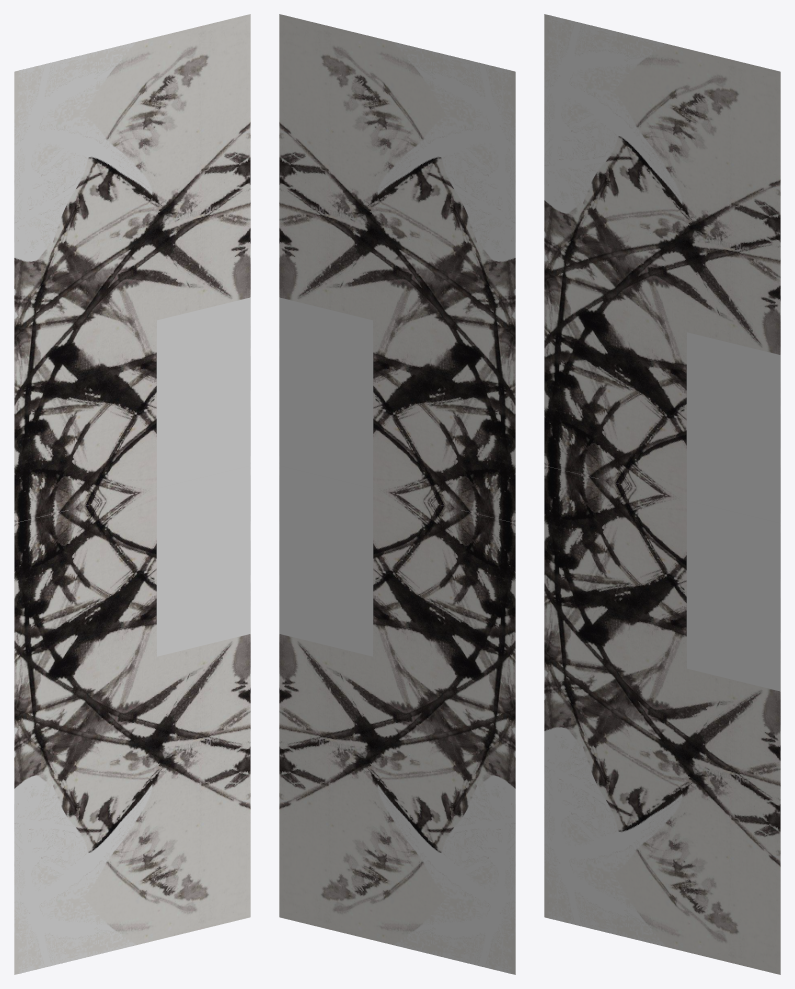
File: PPX_REED3.fbx
The picture shows the model from 3 angles, left to right: view 1: azimuth 30°, elevation 25°; view 2: azimuth 150°, elevation 25°; view 3: azimuth 330°, elevation 25°; orthographic projection.
Parts seen in each view (by area): view 1: 图层 11.png, 图层 11.png_2; view 2: 图层 11.png, 图层 11.png_2; view 3: 图层 11.png, 图层 11.png_2.
Part boxes in pixels (left/top/right/bottom): 图层 11.png: left=14, top=14, right=250, bottom=523; 图层 11.png_2: left=14, top=465, right=250, bottom=974; 图层 11.png: left=279, top=14, right=515, bottom=523; 图层 11.png_2: left=279, top=465, right=515, bottom=974; 图层 11.png: left=544, top=14, right=780, bottom=523; 图层 11.png_2: left=544, top=465, right=780, bottom=974.
Bounding box in the file's own units: 55.26 × 0 × 202.
Materials: 1 (1 with a texture image).
